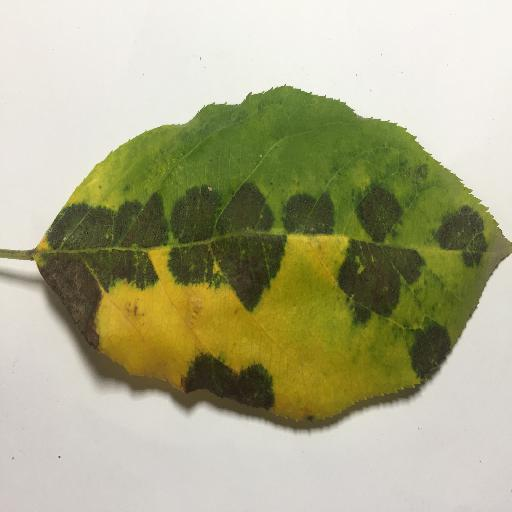Brown_Spot: (45, 253, 105, 359), (192, 357, 274, 409), (343, 254, 401, 327), (220, 247, 270, 324)
